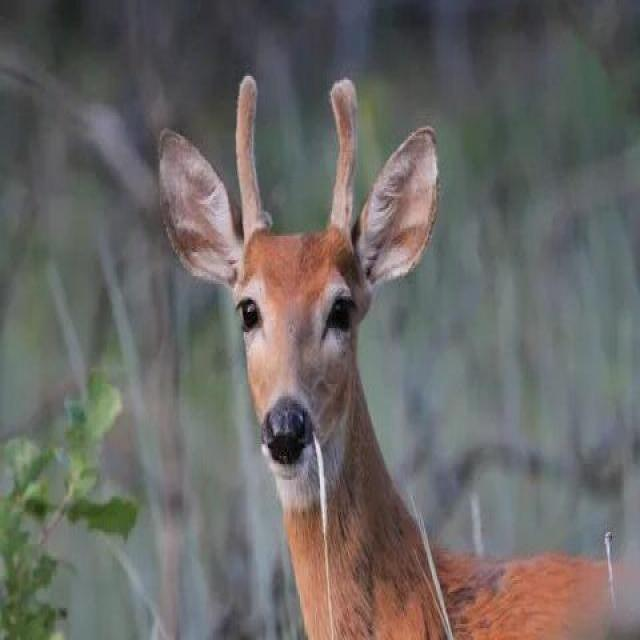deer: (103, 45, 640, 640)
